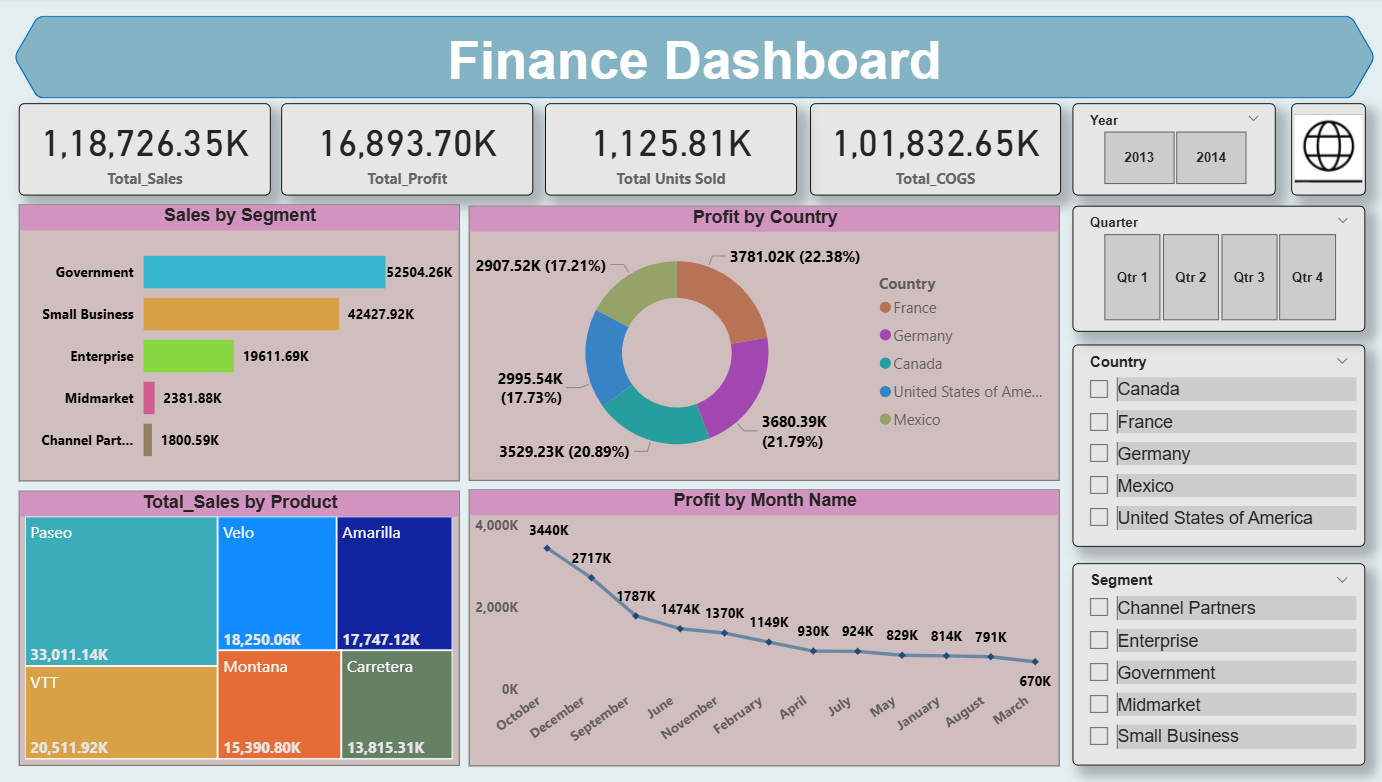

The page's visual inventory and layout, read from the dashboard file:
{"tool":"powerbi","page":{"name":"Dashboard","canvas":[1280,720],"ordinal":1},"visuals":[{"type":"shape","box":[25.7,17.1,1227.7,74.6],"z":0},{"type":"card","fields":{"Values":["financials.Total_Sales"]},"box":[30.6,95.4,227.4,83.2],"z":1000},{"type":"card","fields":{"Values":["financials.Total_COGS"]},"box":[743.5,95.4,226.2,83.2],"z":2000},{"type":"card","fields":{"Values":["financials.Total_Profit"]},"box":[266.6,95.4,227.4,83.2],"z":3000},{"type":"card","fields":{"Values":["Sum(financials.Units Sold)"]},"box":[505,95.4,227.4,83.2],"z":4000},{"type":"slicer","fields":{"Values":["financials.Date.Variation.Date Hierarchy.Year"]},"box":[980.7,95.4,183.4,83.2],"z":5000},{"type":"slicer","fields":{"Values":["financials.Country"]},"box":[980.7,313,264.1,182.2],"z":6000},{"type":"clusteredBarChart","title":"Sales by Segment","fields":{"Category":["financials.Segment"],"Y":["financials.Total_Sales"]},"box":[30.6,187.1,397.4,249.5],"z":7000},{"type":"treemap","fields":{"Values":["financials.Total_Sales"],"Group":["financials.Product"]},"box":[30.6,445.1,397.4,248.2],"z":8000},{"type":"donutChart","title":"Profit by Country","fields":{"Category":["financials.Country"],"Y":["Sum(financials.Profit)"]},"box":[436.6,188.3,533.2,248.2],"z":9000},{"type":"lineChart","title":" Profit by Month Name","fields":{"Y":["Sum(financials.Profit)"],"Category":["financials.Month Name"]},"box":[436.6,443.9,533.2,249.5],"z":10000},{"type":"actionButton","box":[1177.6,95.4,67.3,83.2],"z":11000},{"type":"slicer","fields":{"Values":["financials.Segment"]},"box":[980.7,511.1,264.1,182.2],"z":12000},{"type":"slicer","fields":{"Values":["financials.Date.Variation.Date Hierarchy.Quarter"]},"box":[980.7,188.3,264.1,113.7],"z":13000}]}

Visuals, with their boxes in screenshot pixels (x1, y1, x2, y2), scaled from the page's 1280x720 canvas onto the 1382x782 screenshot:
shape: [28, 19, 1353, 100]
card - financials.Total_Sales: [33, 104, 279, 194]
card - financials.Total_COGS: [803, 104, 1047, 194]
card - financials.Total_Profit: [288, 104, 533, 194]
card - Sum(financials.Units Sold): [545, 104, 791, 194]
slicer - financials.Date.Variation.Date Hierarchy.Year: [1059, 104, 1257, 194]
slicer - financials.Country: [1059, 340, 1344, 538]
"Sales by Segment" clusteredBarChart: [33, 203, 462, 474]
treemap - financials.Total_Sales x financials.Product: [33, 483, 462, 753]
"Profit by Country" donutChart: [471, 205, 1047, 474]
" Profit by Month Name" lineChart: [471, 482, 1047, 753]
actionButton: [1271, 104, 1344, 194]
slicer - financials.Segment: [1059, 555, 1344, 753]
slicer - financials.Date.Variation.Date Hierarchy.Quarter: [1059, 205, 1344, 328]
